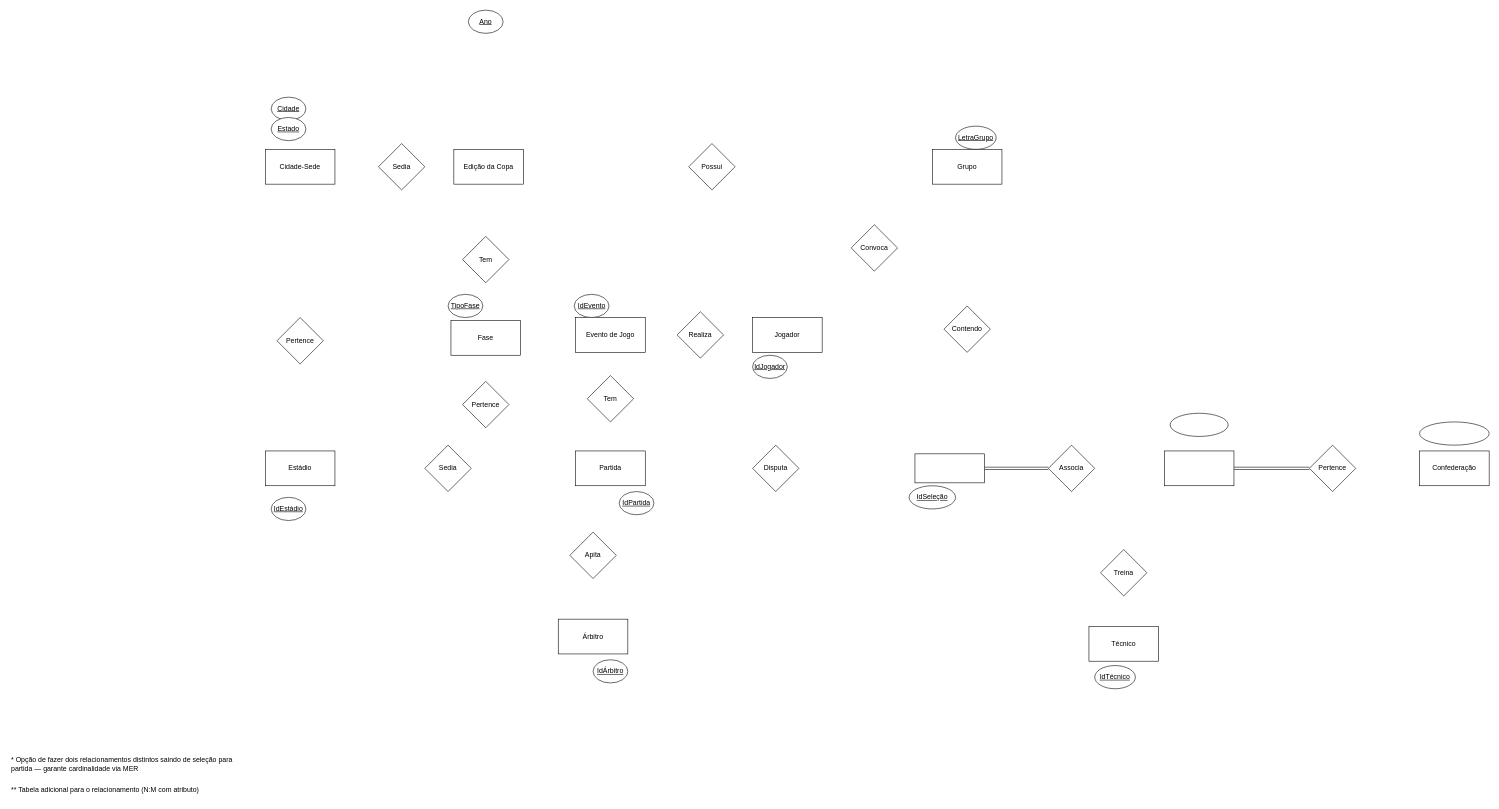
Some shapes in this 1499 by 809 pixel diagram are drawn without their labels. Each missing label, with the centre of its shape:
"IdConfederação" belongs at point 1454,433.
"País" belongs at point 1199,468.
"Seleção" belongs at point 949,468.
"SiglaPaís" belongs at point 1199,424.
